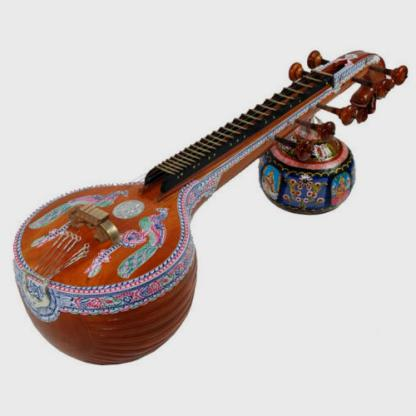Veena: (13, 99, 293, 365)
